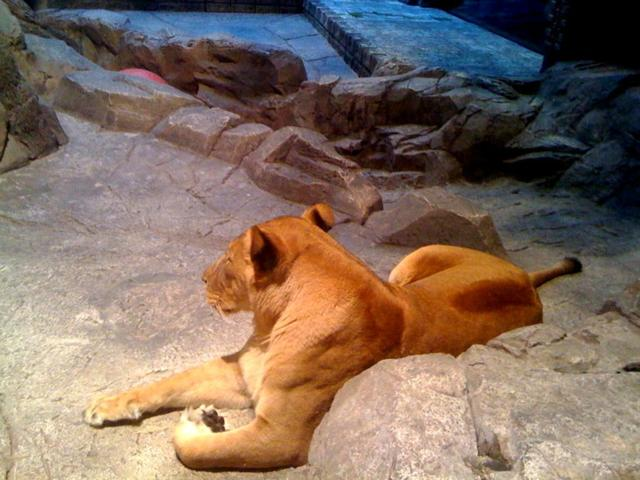lion: (69, 167, 592, 459)
